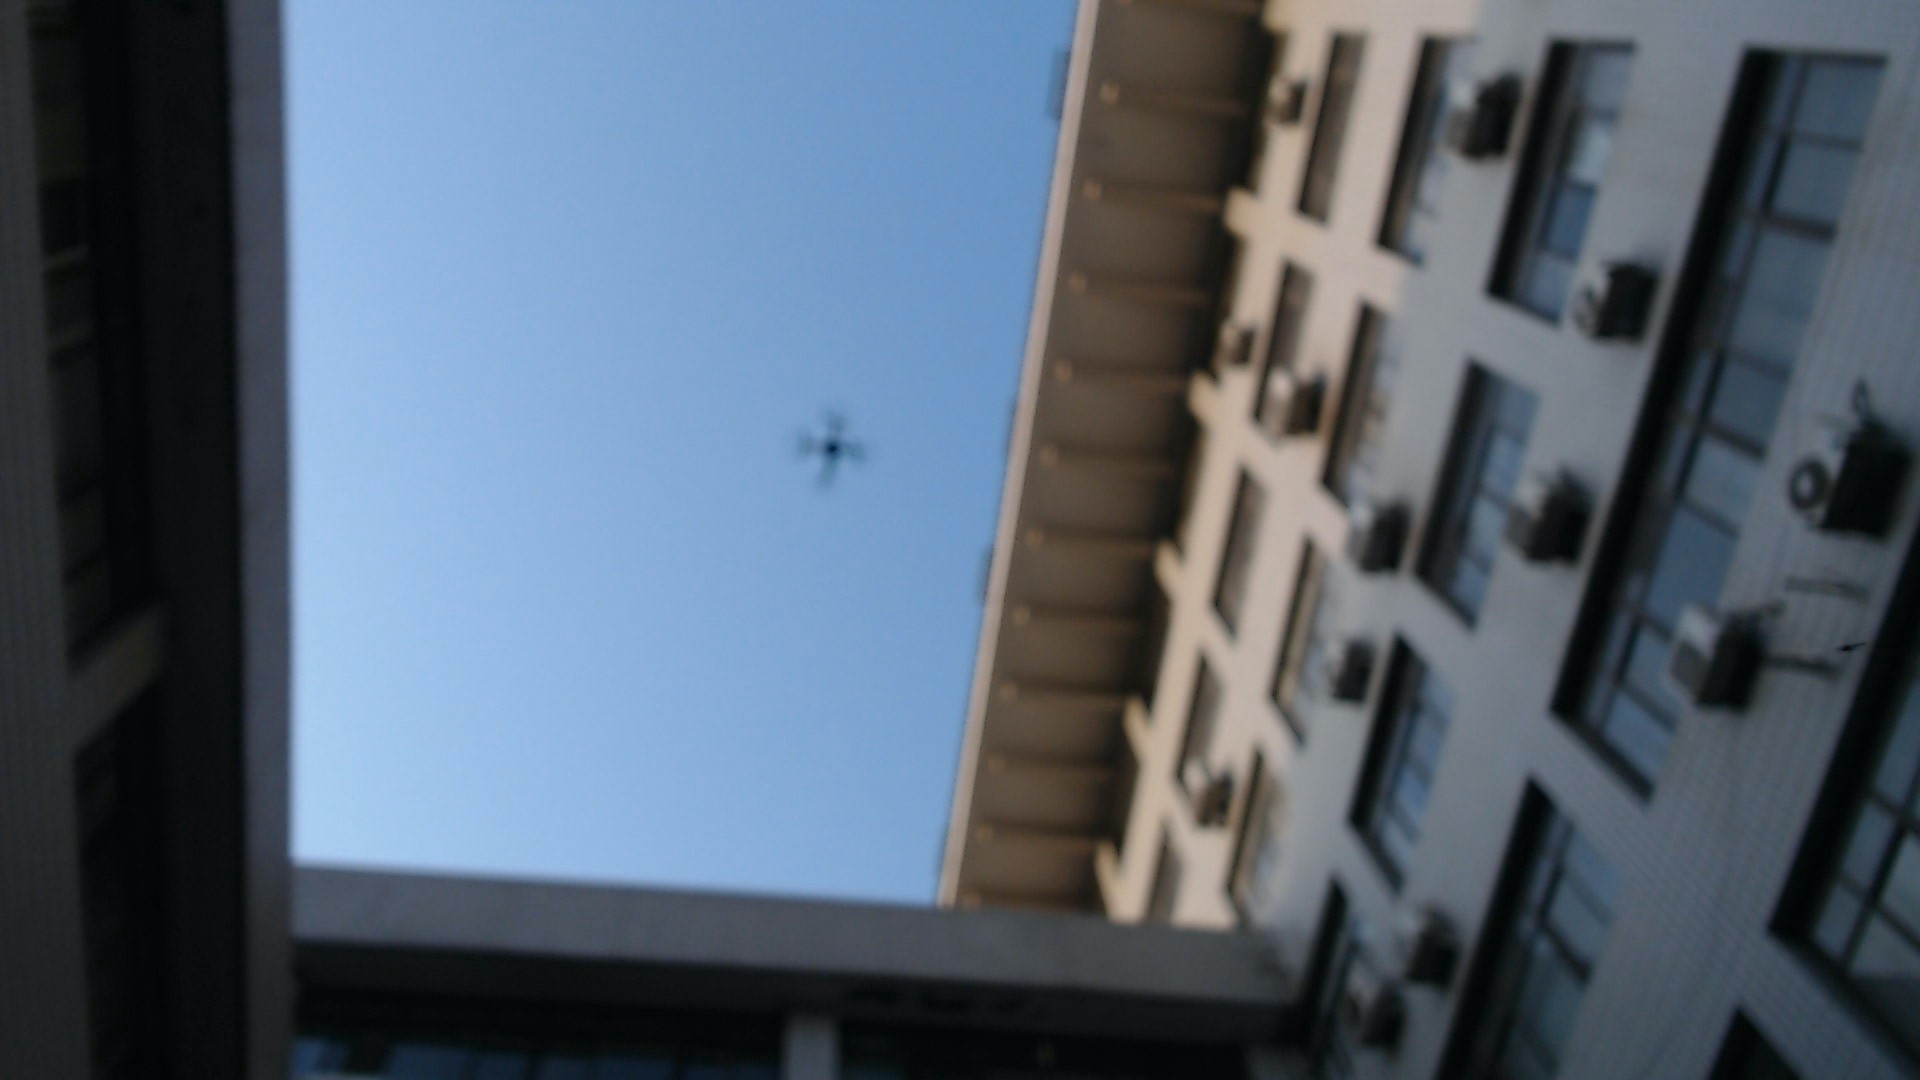drone: (756, 393, 899, 502)
